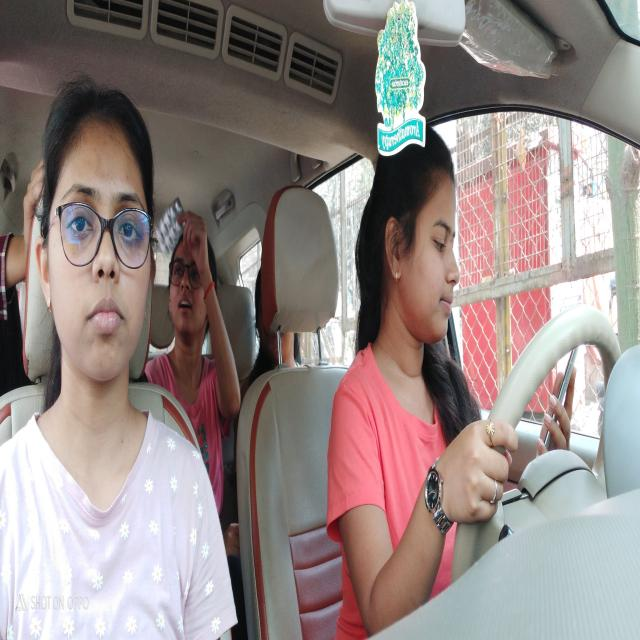mobile: (534, 312, 584, 457)
person: (30, 78, 170, 408), (389, 121, 472, 371), (165, 198, 220, 380)
